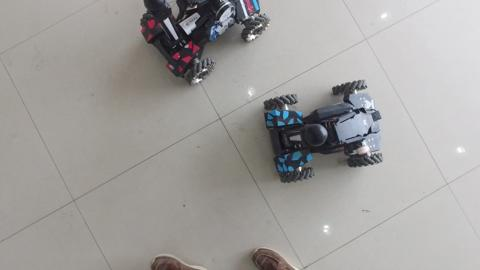chariot: (264, 75, 387, 186), (137, 1, 273, 89)
